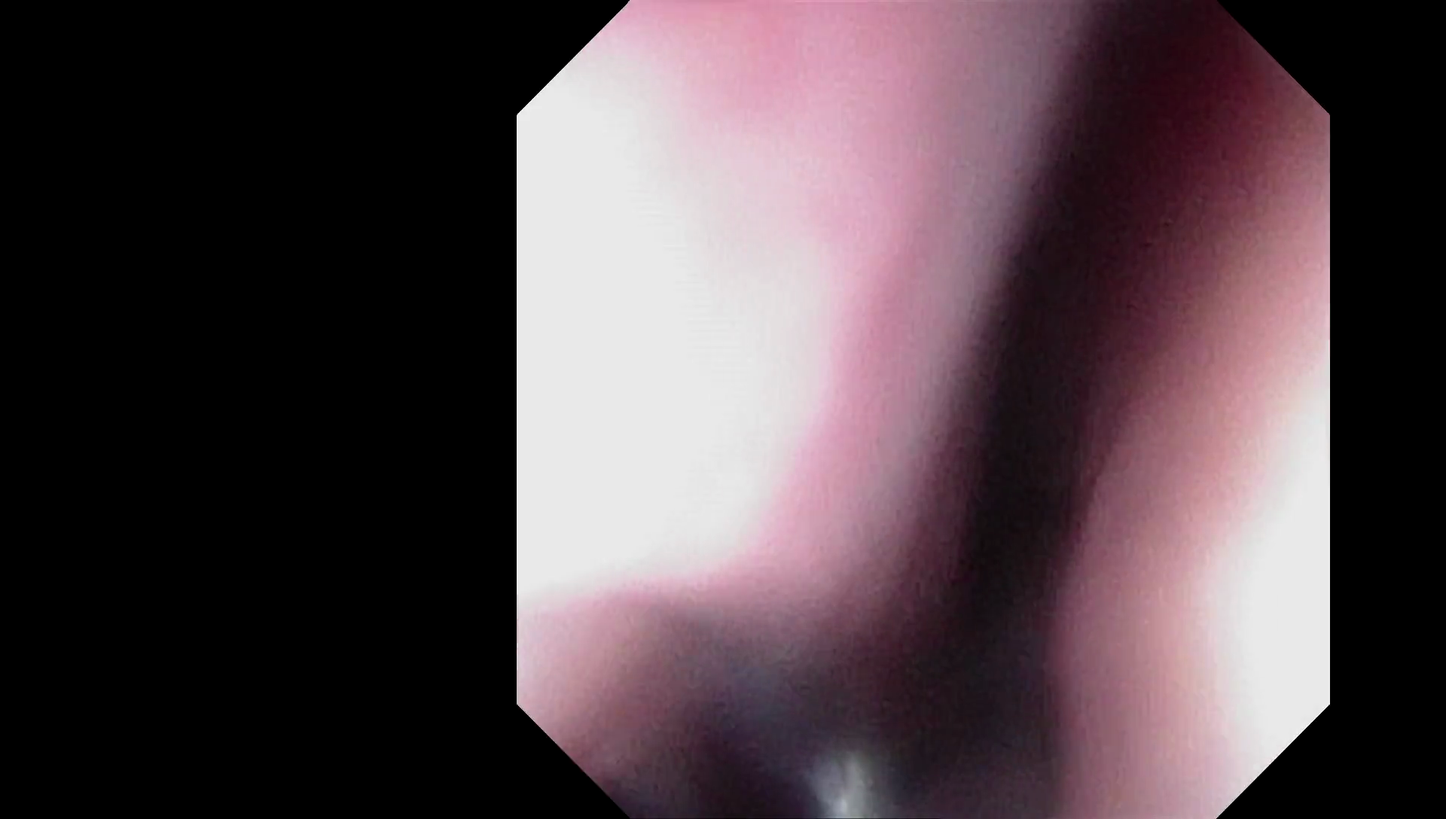close_wall: (533, 114, 929, 608), (1125, 296, 1320, 705)
next: (944, 102, 1133, 724)
